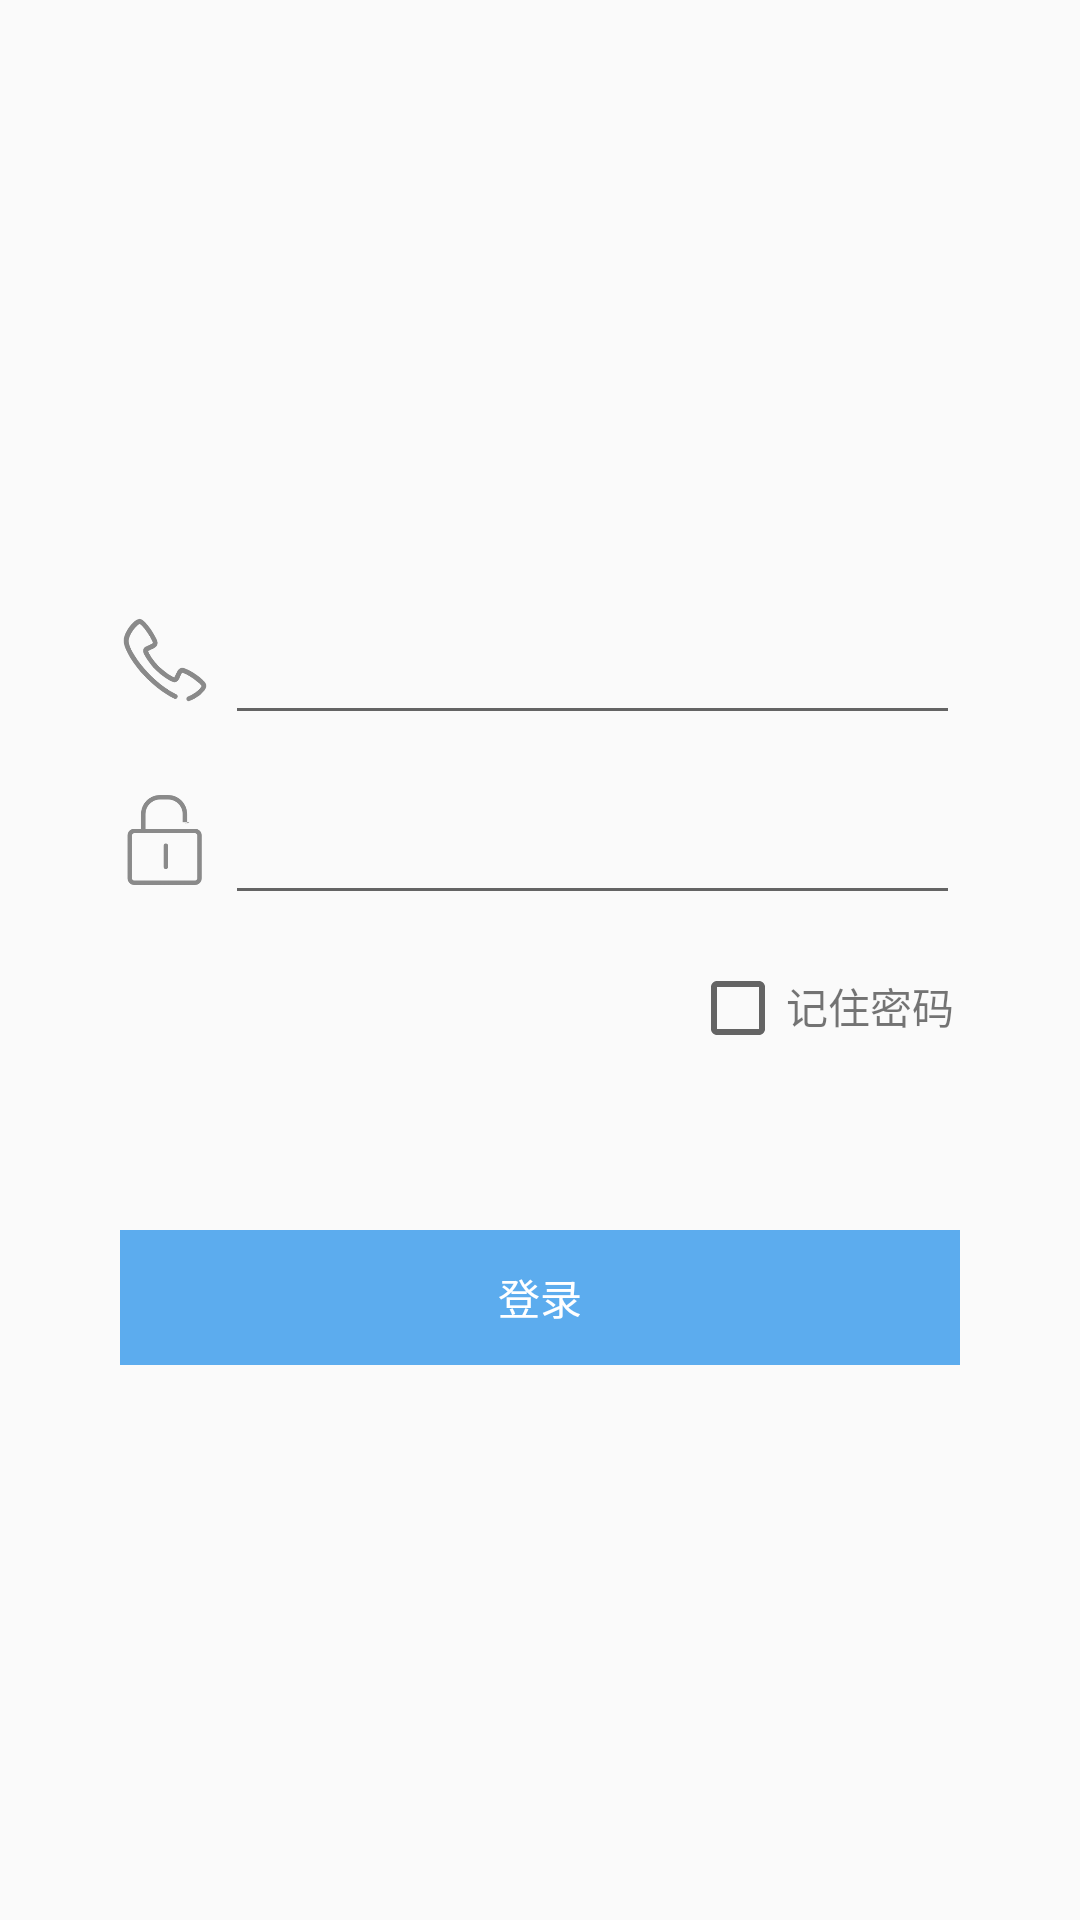

Where to tap for icons on this 1080*1920 app screen, as (x=x, y=y):
password: (x=164, y=840)
phone: (x=165, y=660)
